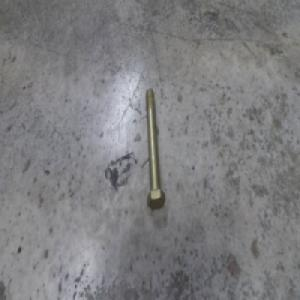Bolt: (144, 88, 166, 210)
